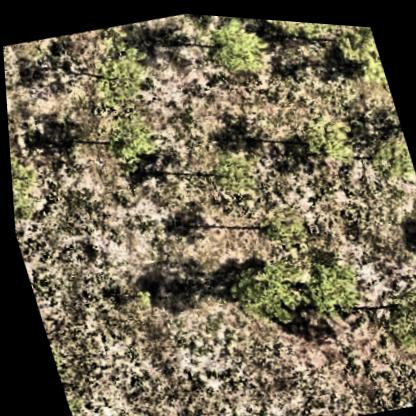tree-top: (218, 237, 313, 336), (291, 237, 364, 322), (82, 40, 160, 114), (94, 98, 164, 177), (199, 12, 276, 83), (366, 258, 416, 358), (292, 101, 361, 169), (247, 188, 311, 253), (329, 19, 386, 82), (363, 123, 416, 188), (202, 139, 257, 199), (8, 145, 44, 232), (267, 16, 346, 42)
